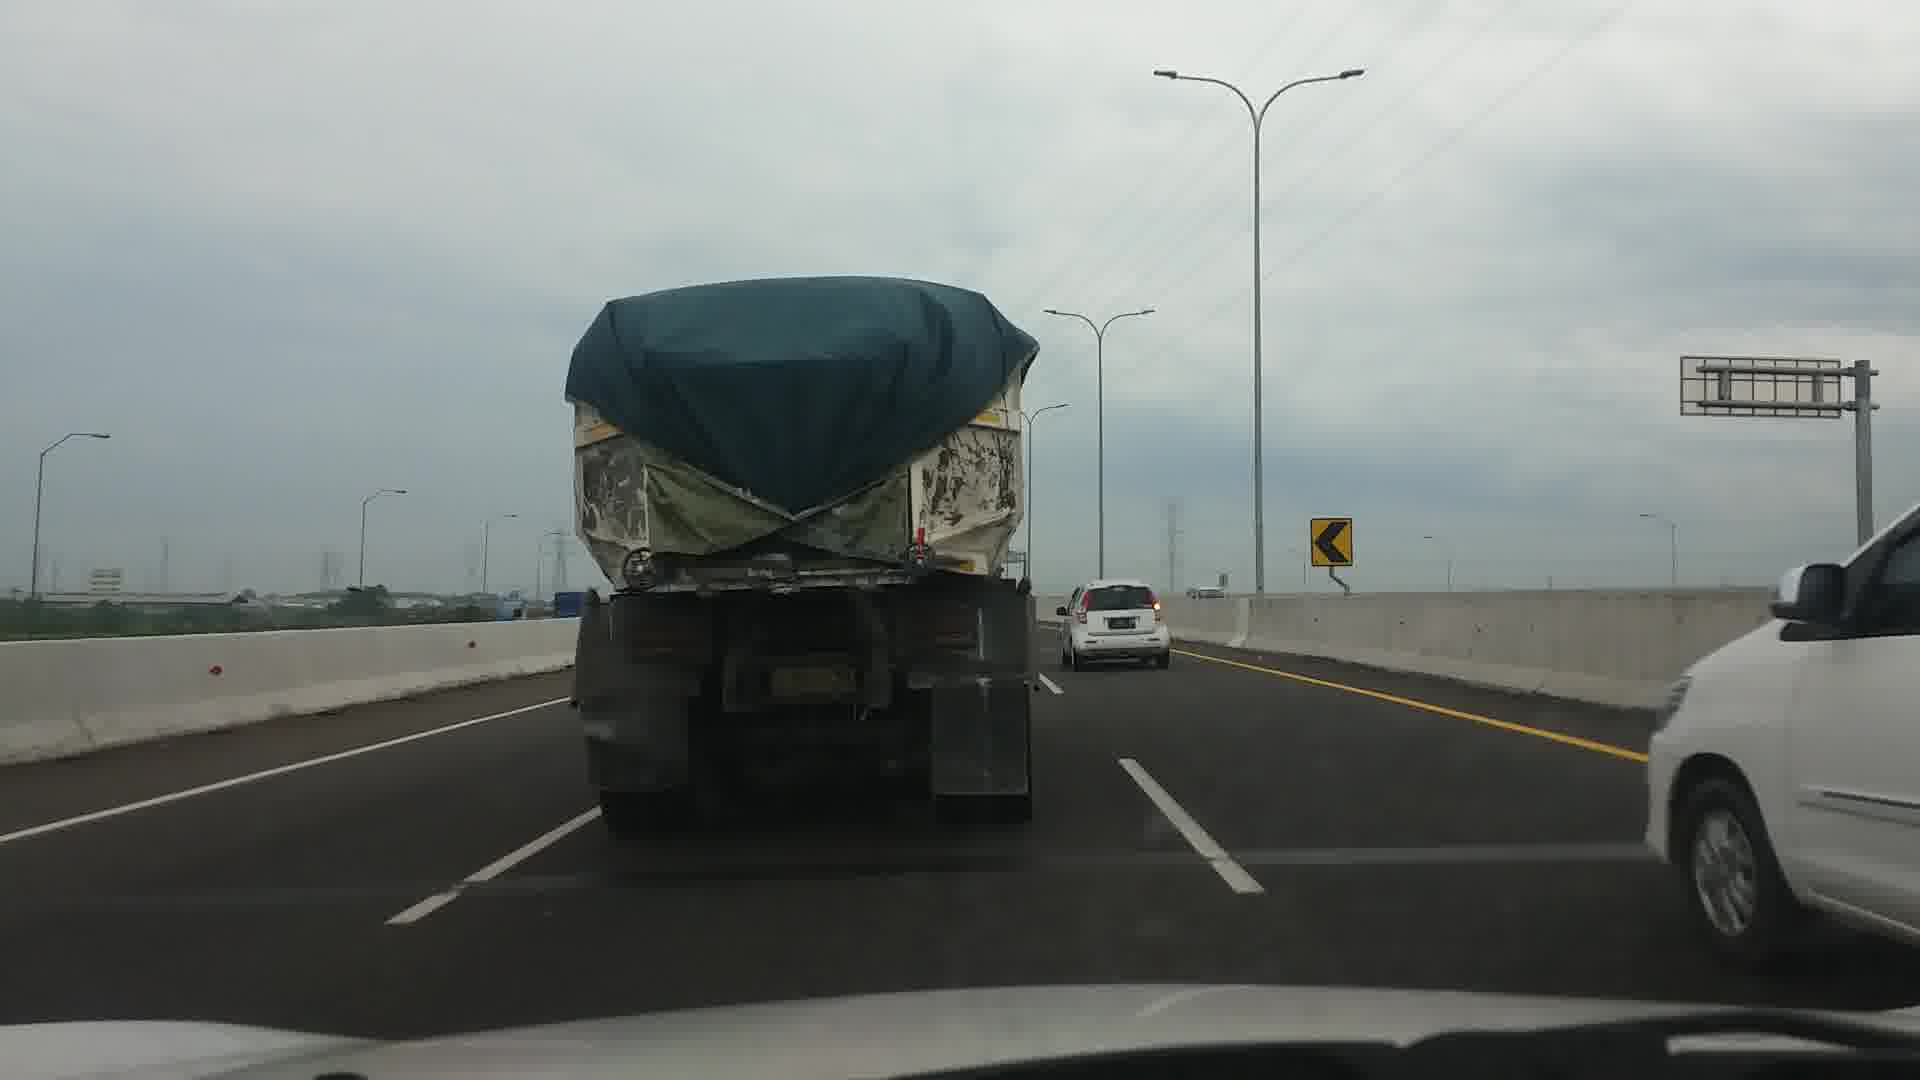plate_positive: (769, 666, 856, 698), (1108, 617, 1135, 629)
